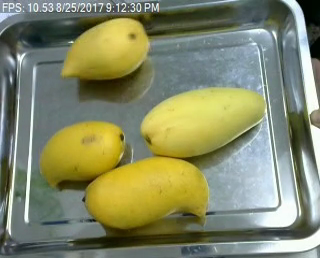Mango: (83, 155, 212, 232), (137, 85, 267, 159), (35, 119, 129, 192), (62, 16, 150, 83)
